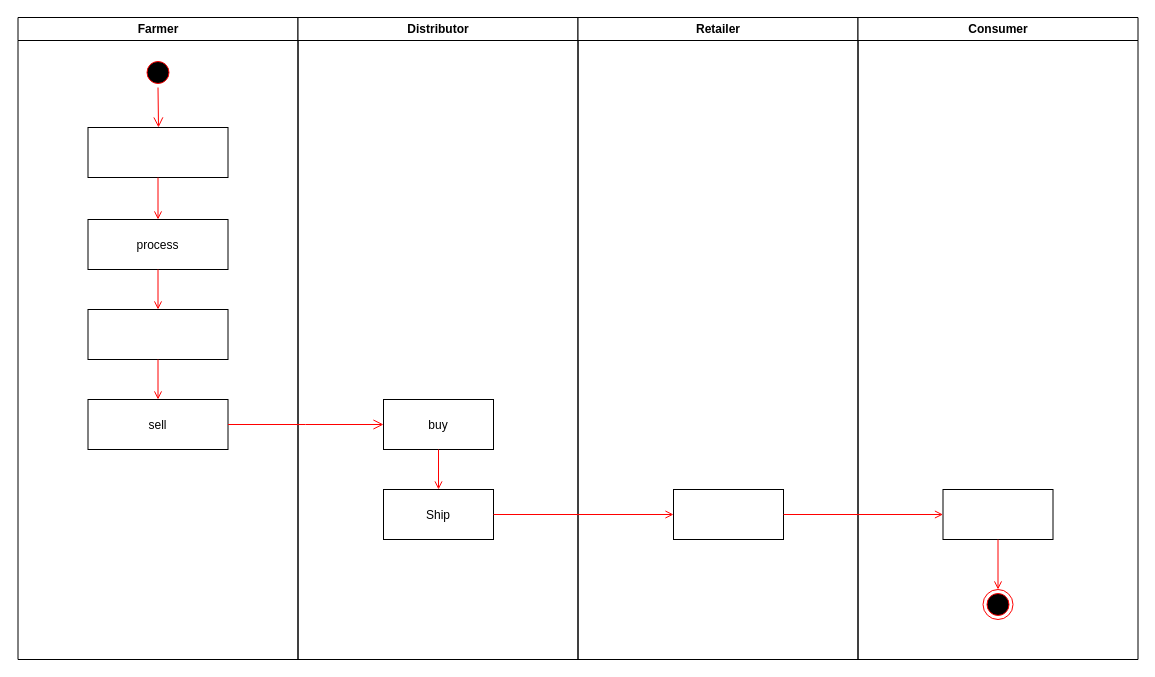
The diagram is 1155 pixels wide and 677 high, and some of its shapes have lost their labels. The centre of each missing label's shape, as x and y in pixels:
harvest: the point at 157,152
package: the point at 157,334
Purchased: the point at 997,514
Receive: the point at 728,514
